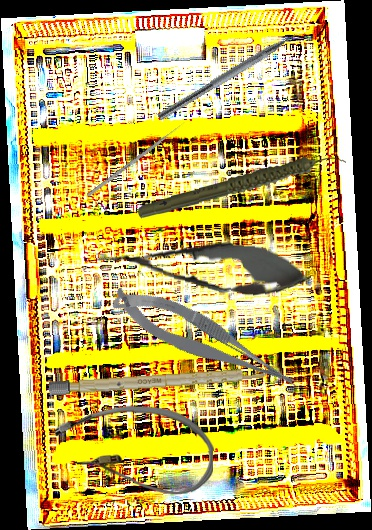Cannula: (53, 404, 215, 497)
Chopper: (157, 22, 314, 131)
Handpiece: (136, 153, 348, 221)
Micro Scissor: (104, 268, 306, 415), (92, 229, 314, 303)
Pusher: (86, 120, 187, 198)
Scalpel Handle: (48, 366, 270, 396)
